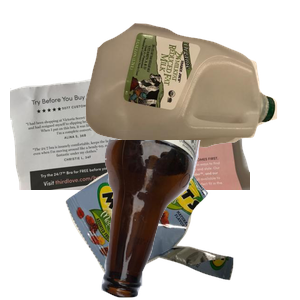glass: (99, 140, 300, 300)
paper: (10, 61, 250, 241)
plastic: (83, 21, 300, 162)
trash: (63, 137, 289, 300)
